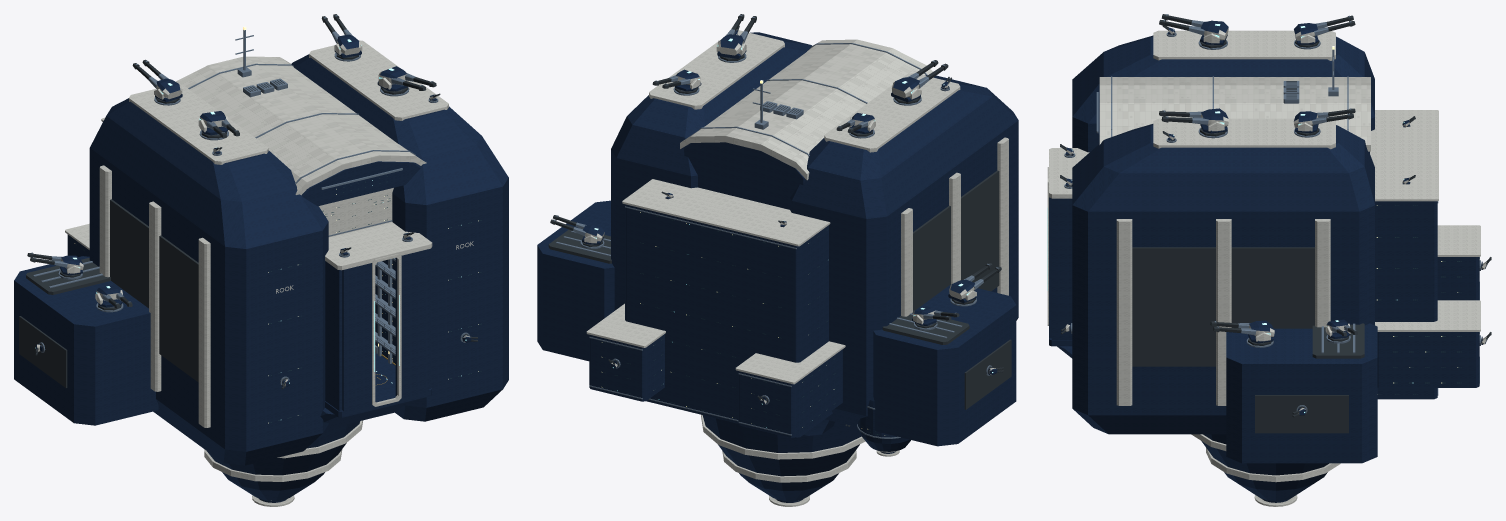
The model's file is rook.glb.
The picture shows the model from 3 angles, left to right: view 1: azimuth 30°, elevation 25°; view 2: azimuth 150°, elevation 25°; view 3: azimuth 270°, elevation 25°; orthographic projection. The views are drawn at different scales.
Parts seen in each view (by area): view 1: rook / hull, rook / armor, rook / dark, rook / metal; view 2: rook / hull, rook / armor, rook / dark, rook / metal; view 3: rook / hull, rook / armor, rook / dark, rook / metal.
Boxes of the visible parts, bbox=[...] form: rook / hull: bbox=[14, 34, 508, 502]; rook / armor: bbox=[37, 40, 473, 506]; rook / dark: bbox=[19, 14, 477, 389]; rook / metal: bbox=[31, 15, 469, 385]; rook / hull: bbox=[537, 30, 1018, 502]; rook / armor: bbox=[584, 30, 1008, 506]; rook / dark: bbox=[548, 14, 1011, 426]; rook / metal: bbox=[554, 15, 998, 438]; rook / hull: bbox=[1049, 20, 1487, 502]; rook / armor: bbox=[1047, 28, 1486, 506]; rook / dark: bbox=[1060, 14, 1491, 433]; rook / metal: bbox=[1064, 14, 1481, 413].
Bounding box in the file's own units: 154 × 144 × 129.
Materials: 9 (4 with a texture image).
